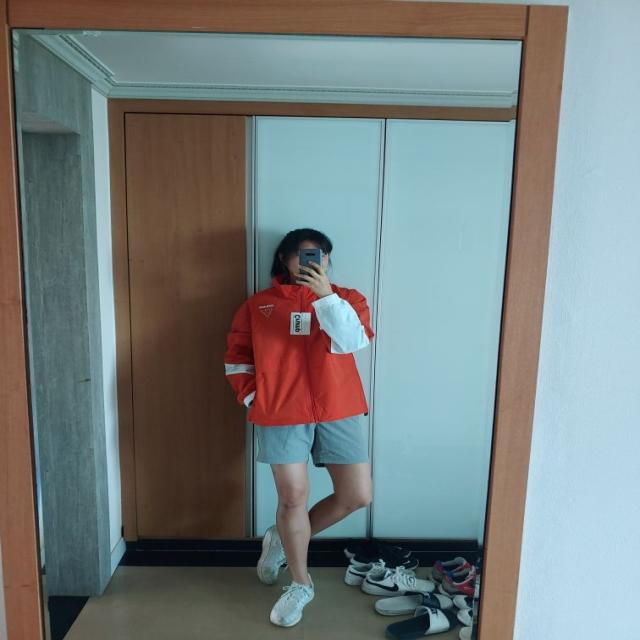jacket: (225, 269, 371, 421)
shortpants: (255, 409, 369, 467)
